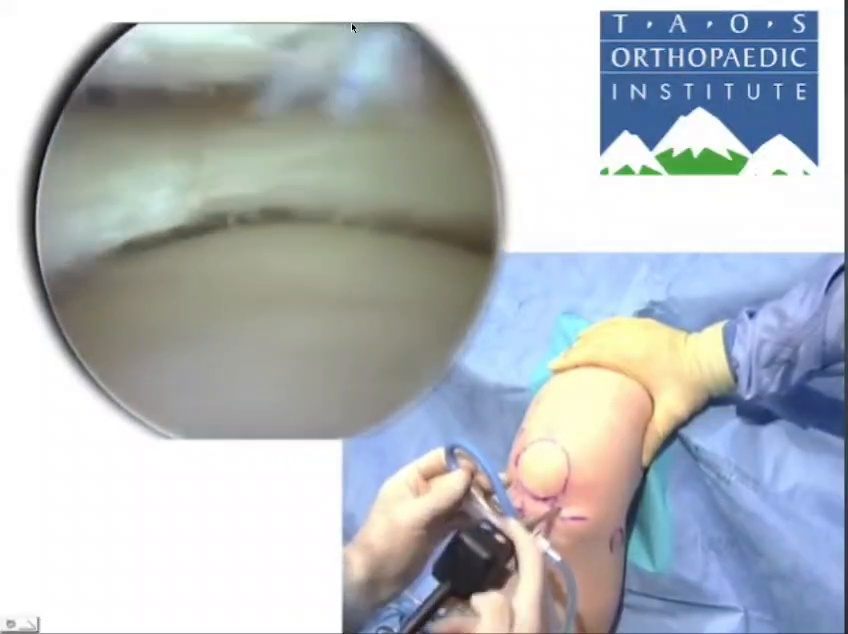arthroscope: (38, 0, 424, 285)
probe: (97, 218, 424, 459)
